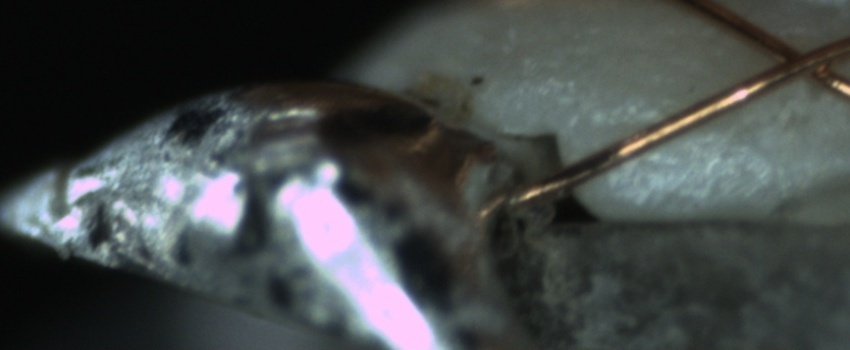CL: (752, 28, 848, 92)
